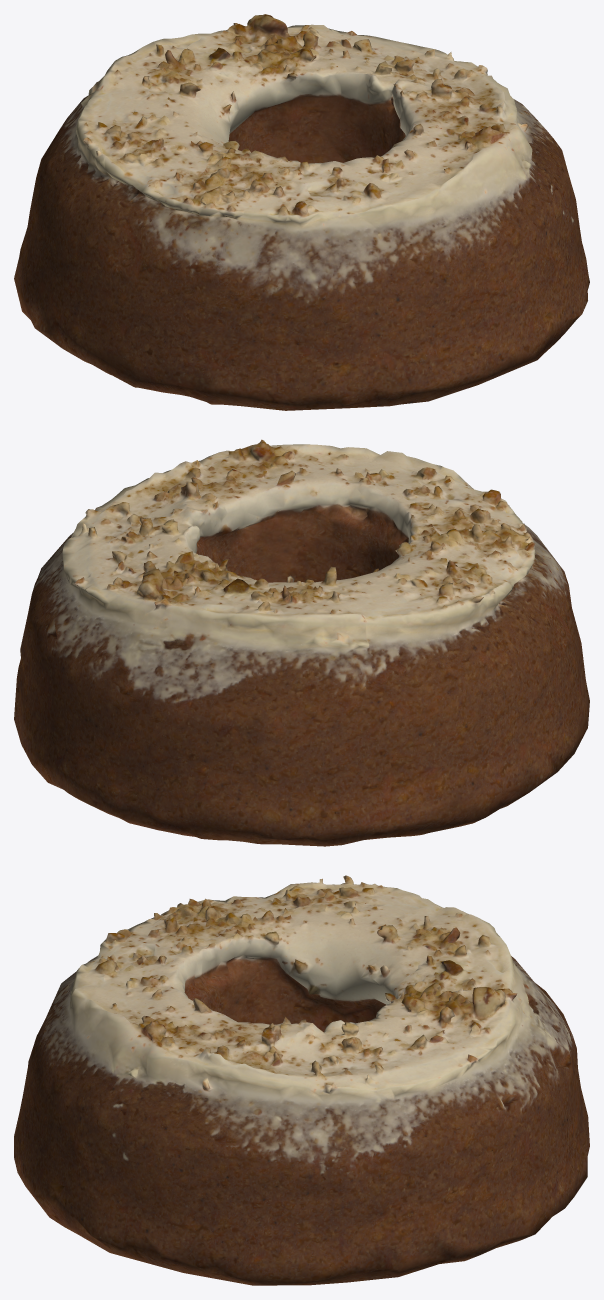
Rendered from carrot_cake.gltf.
The picture shows the model from 3 angles, top to bottom: view 1: azimuth 30°, elevation 25°; view 2: azimuth 150°, elevation 25°; view 3: azimuth 270°, elevation 25°; orthographic projection. The views are drawn at different scales.
Visible parts, largest first — view 1: carrot_cake; view 2: carrot_cake; view 3: carrot_cake.
Boxes of the visible parts, <box> form: carrot_cake: <box>14,14,589,410</box>; carrot_cake: <box>14,439,589,846</box>; carrot_cake: <box>14,875,589,1285</box>.
Bounding box in the file's own units: 0.2254 × 0.0976 × 0.2254.
1 material, 1 textured.
